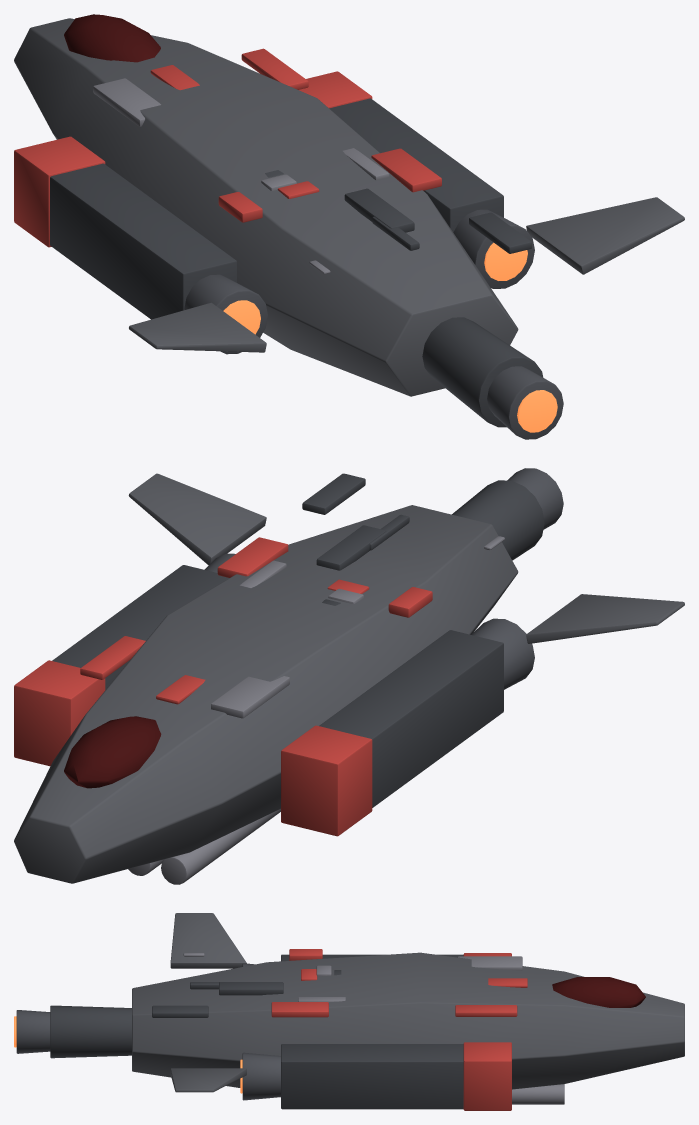
The model's file is enemy_mauler.glb.
The picture shows the model from 3 angles, top to bottom: view 1: azimuth 30°, elevation 25°; view 2: azimuth 150°, elevation 25°; view 3: azimuth 270°, elevation 25°; orthographic projection. The views are drawn at different scales.
Visible parts, largest first — view 1: EnemyMauler; view 2: EnemyMauler; view 3: EnemyMauler.
Boxes of the visible parts, bbox=[...] form: EnemyMauler: bbox=[14, 14, 684, 439]; EnemyMauler: bbox=[14, 468, 684, 884]; EnemyMauler: bbox=[14, 913, 684, 1110].
Size of the model in its own units: 8.72 by 2.62 by 13.95.
